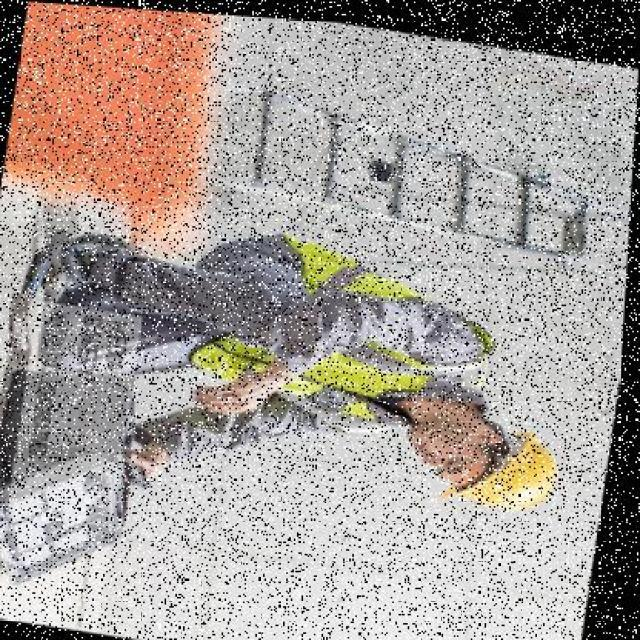helmet: (432, 409, 574, 515)
vest: (196, 252, 506, 452)
